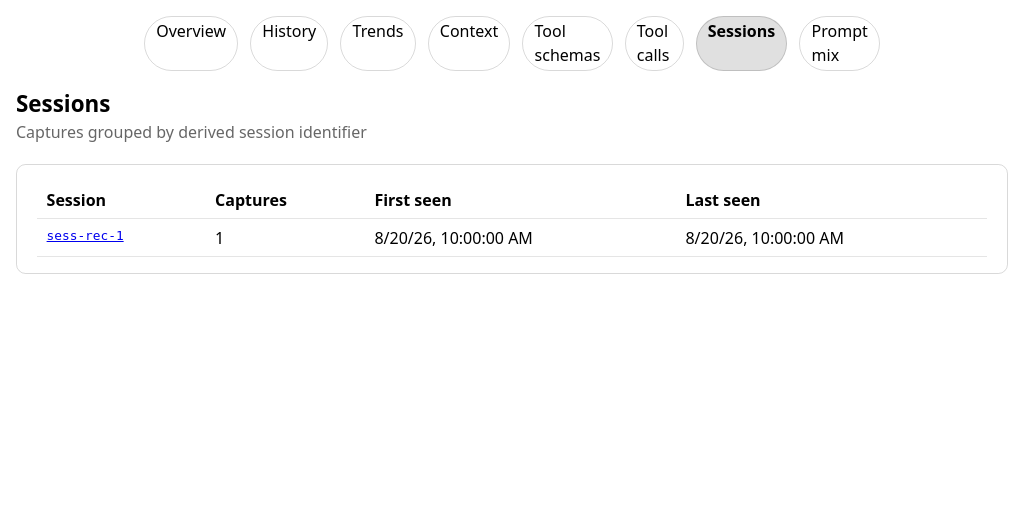
Scenario: Boat inspection routes › renders session detail with breakdown from the sessions listing
Expected: the table with test id "boat-sessions-table" is shown, [37,181,987,257]
Click the link "sess-rec-1" at (85, 235), box [47,228,124,243]
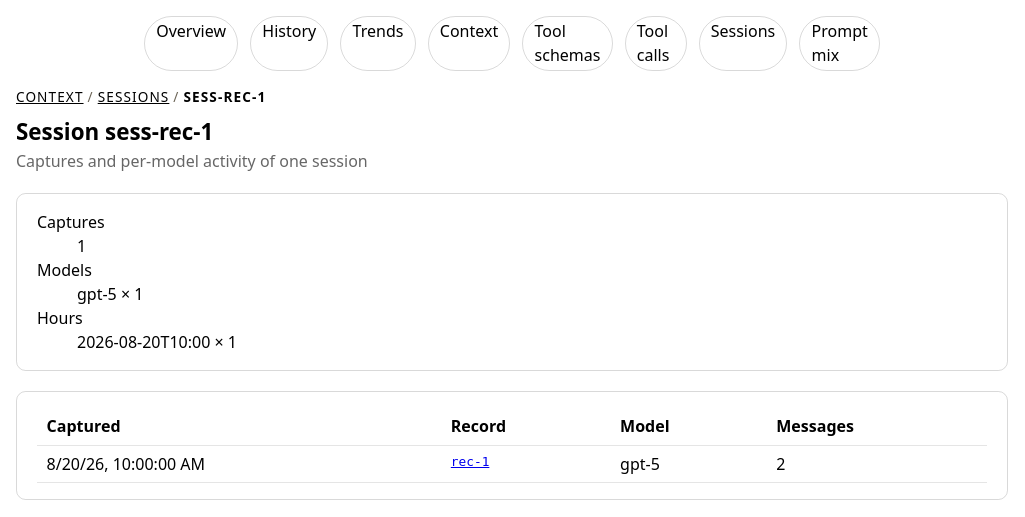
Expected: the element with test id "boat-session-detail-table" is shown, [16,391,1008,500]
Expected: the element with test id "boat-session-breakdown" shows "gpt-5 × 1", [77,283,143,305]
